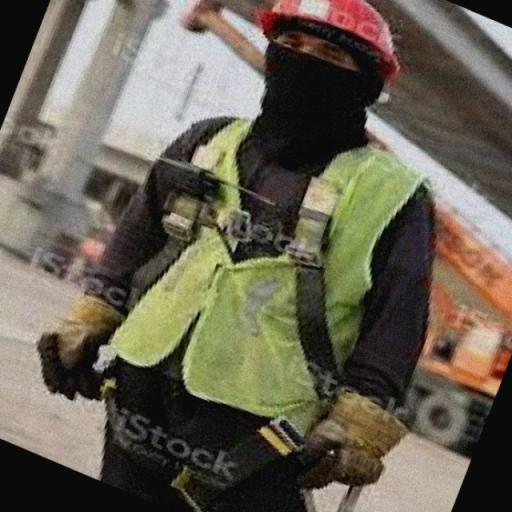Person: (37, 4, 437, 507)
gloves: (312, 385, 410, 487), (34, 292, 120, 402)
helmet: (253, 0, 401, 69)
vest: (121, 114, 426, 447)
